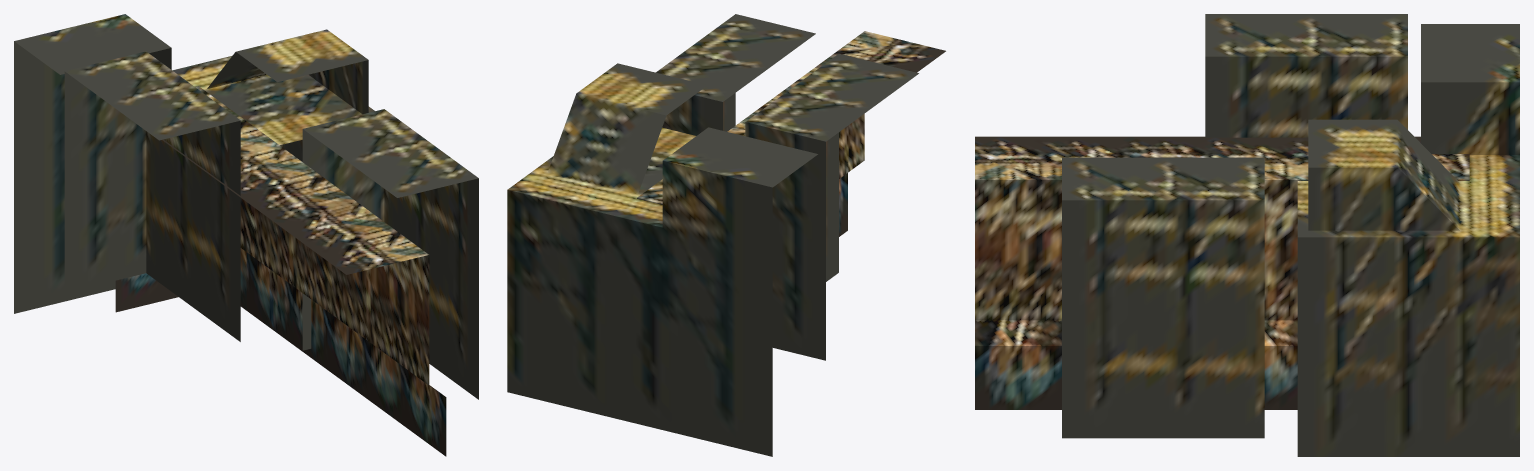
File: F_GuildRampart_04.fbx
3 views of the same model, side by side, from view 1: azimuth 30°, elevation 25°; view 2: azimuth 150°, elevation 25°; view 3: azimuth 270°, elevation 25° (orthographic). The views are drawn at different scales.
Visible parts, largest first — view 1: T_BuildForm_02 (×2), F_GuildRampart_04, T_BuildForm_01; view 2: T_BuildForm_01, T_BuildForm_02 (×2), F_GuildRampart_04; view 3: T_BuildForm_01, T_BuildForm_02 (×2), F_GuildRampart_04.
Part boxes in pixels (bbox=[...]): T_BuildForm_02 (×2): bbox=[64, 51, 478, 399]; F_GuildRampart_04: bbox=[115, 86, 446, 456]; T_BuildForm_01: bbox=[14, 14, 374, 313]; T_BuildForm_01: bbox=[507, 63, 817, 456]; T_BuildForm_02 (×2): bbox=[656, 14, 918, 360]; F_GuildRampart_04: bbox=[637, 31, 945, 236]; T_BuildForm_01: bbox=[1297, 24, 1519, 456]; T_BuildForm_02 (×2): bbox=[1062, 14, 1407, 438]; F_GuildRampart_04: bbox=[975, 136, 1469, 409].
Bounding box in the file's own units: 0.4089 × 0.4071 × 0.6657.
